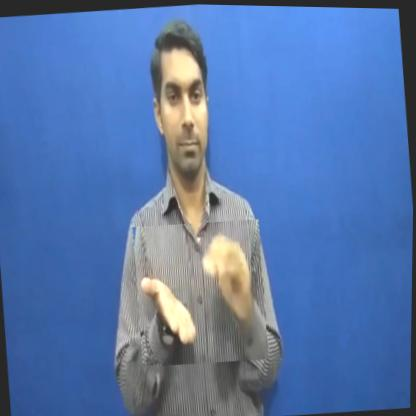ExcuseMe: (132, 216, 271, 368)
